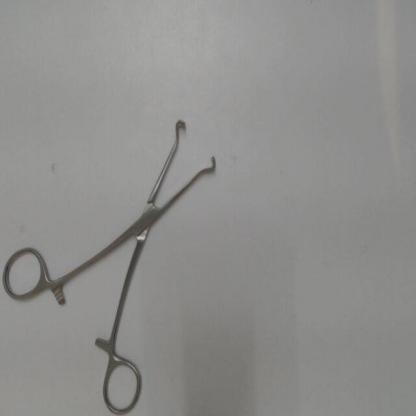Babcock Tissue Forceps: (0, 117, 220, 411)
